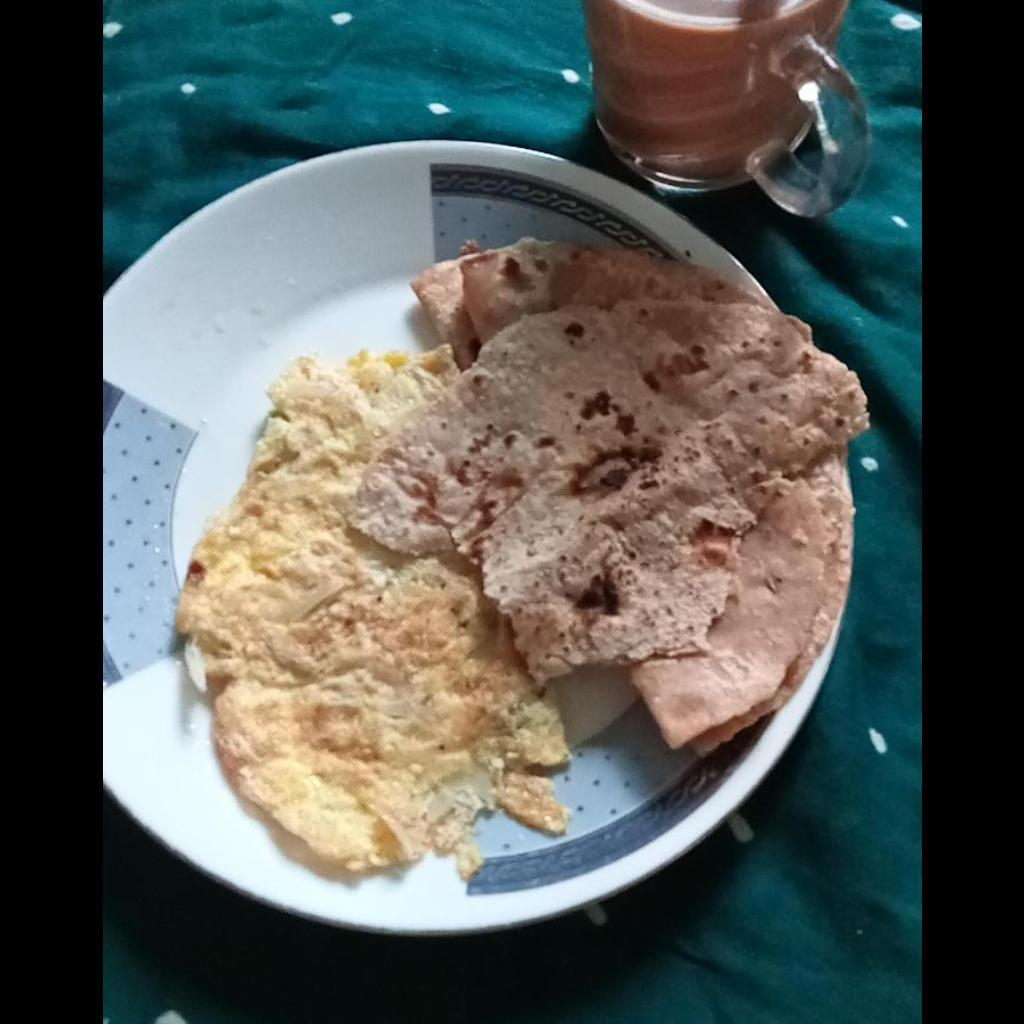egg-poached: (176, 351, 573, 881)
ruti: (350, 235, 876, 757)
